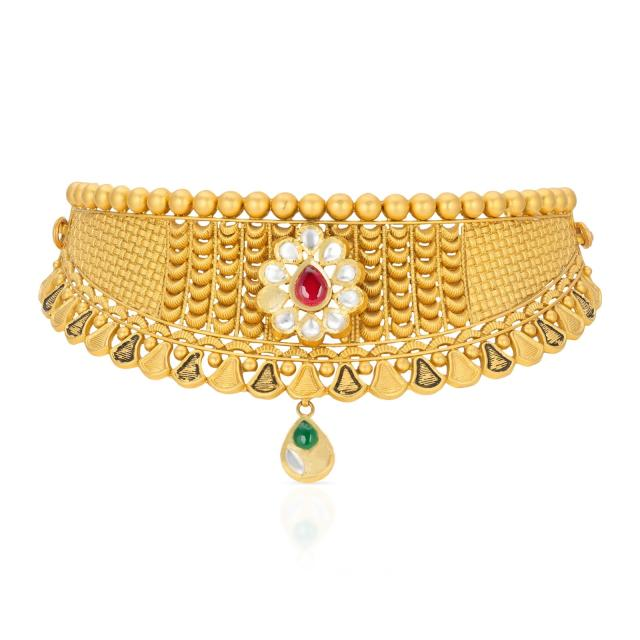missing gem: (310, 446, 330, 473), (260, 291, 283, 309)
